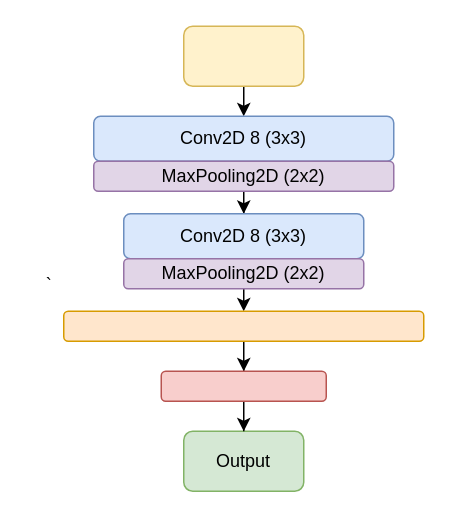
The diagram is 450 pixels wide and 518 high, and some of its shapes have lost their labels. Each missing label, with the centre of its shape:
"Dense (softmax)" goes at [243,385].
"Flatten" goes at [243,325].
"Input" goes at [243,55].
